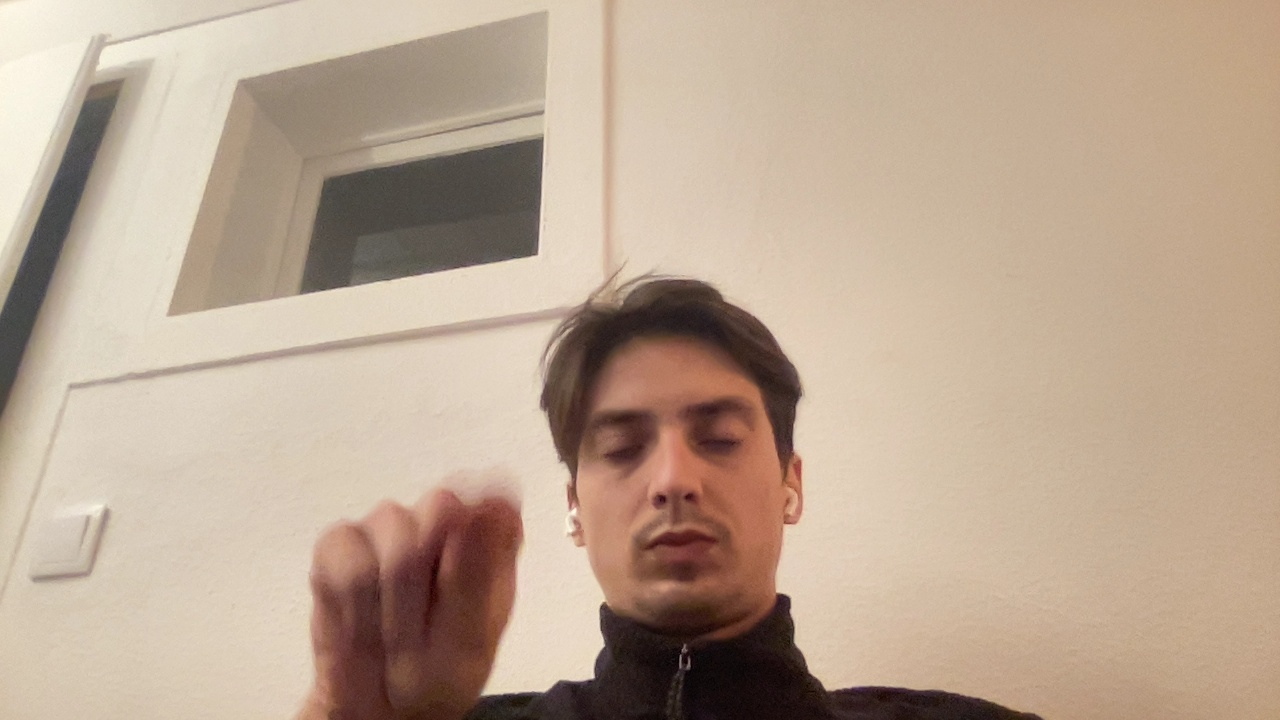no: (303, 482, 512, 712)
